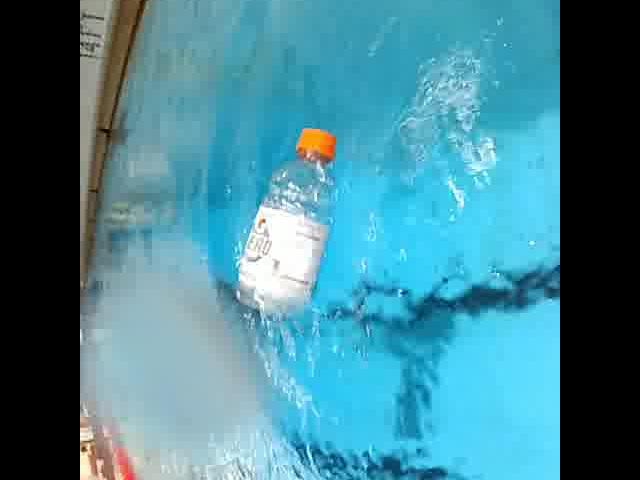Bottle: (232, 116, 346, 320)
